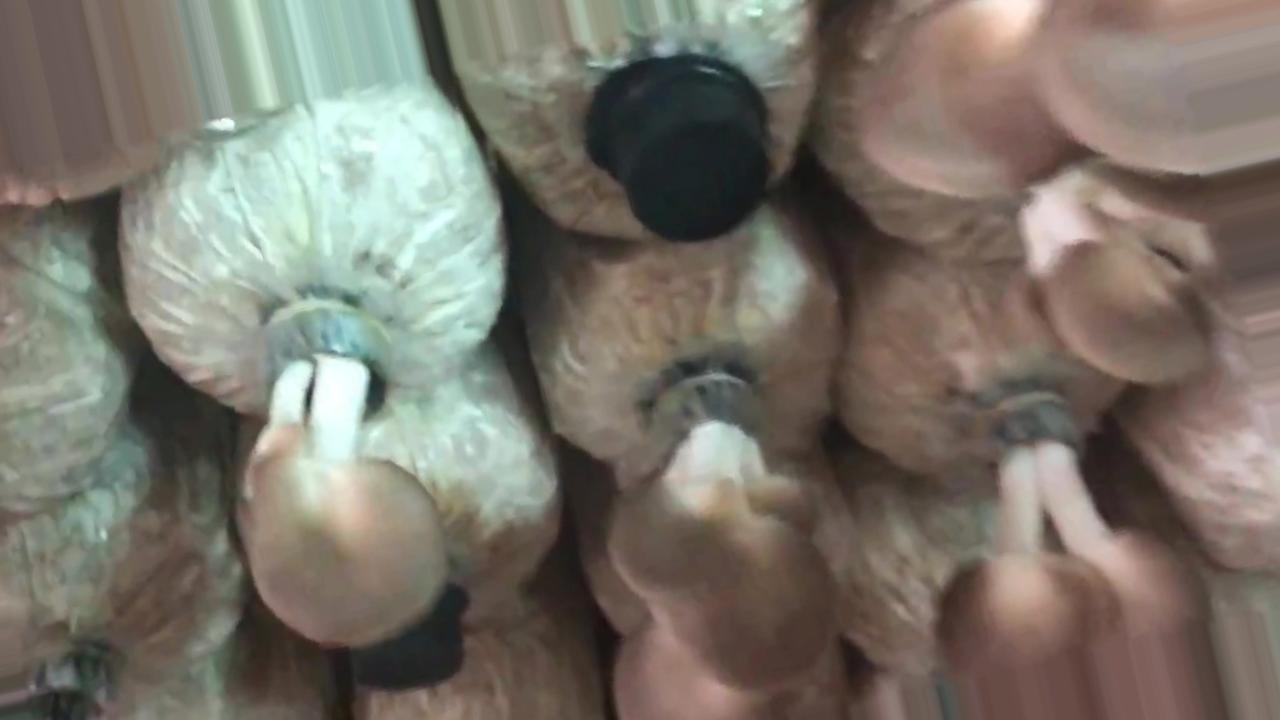nam: (939, 398, 1222, 720), (849, 3, 1280, 194), (611, 377, 838, 720), (252, 305, 448, 646), (1020, 185, 1280, 381)
